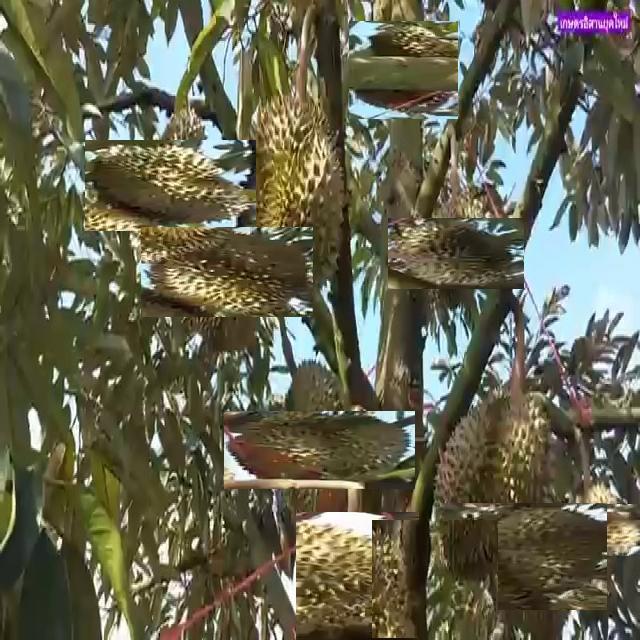durian: (231, 84, 352, 308), (429, 381, 558, 579), (251, 382, 387, 518), (458, 489, 594, 624), (105, 120, 236, 252), (162, 206, 293, 338), (294, 513, 421, 640), (372, 520, 498, 638), (351, 18, 455, 122), (404, 201, 508, 305), (553, 489, 635, 571)
